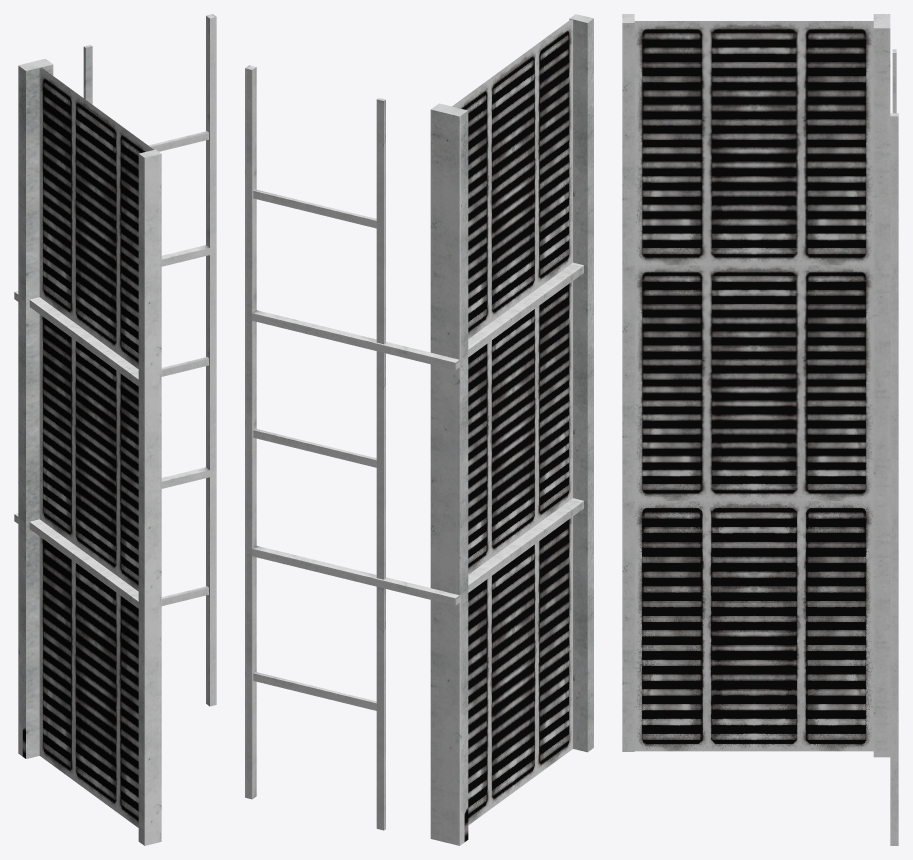
The model's file is S_CatwalkSystem_04c.dae.
The picture shows the model from 3 angles, left to right: view 1: azimuth 30°, elevation 25°; view 2: azimuth 150°, elevation 25°; view 3: azimuth 270°, elevation 25°; orthographic projection. The views are drawn at different scales.
Visible parts, largest first — view 1: S_CatwalkSystem_04c.001; view 2: S_CatwalkSystem_04c.001; view 3: S_CatwalkSystem_04c.001.
Boxes of the visible parts, box(x1,y1,x2,y2) form: S_CatwalkSystem_04c.001: box(14, 14, 216, 845); S_CatwalkSystem_04c.001: box(245, 14, 593, 845); S_CatwalkSystem_04c.001: box(622, 14, 898, 845).
Bounding box in the file's own units: 1.16 × 1.32 × 3.84.
